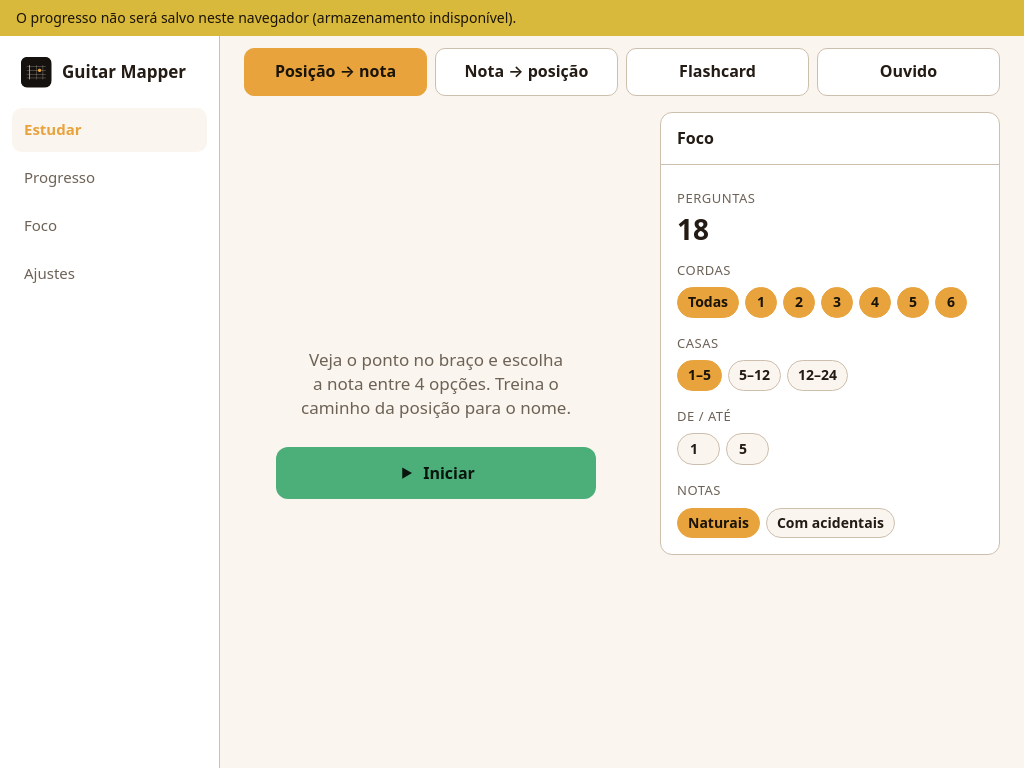
Test: App › warns when storage is unavailable and still works
Expected: the text "progresso não será salvo" is shown, left=16, top=8, right=516, bottom=27
Step 1. Click the button "Iniciar" → click(436, 474), box left=276, top=448, right=596, bottom=500
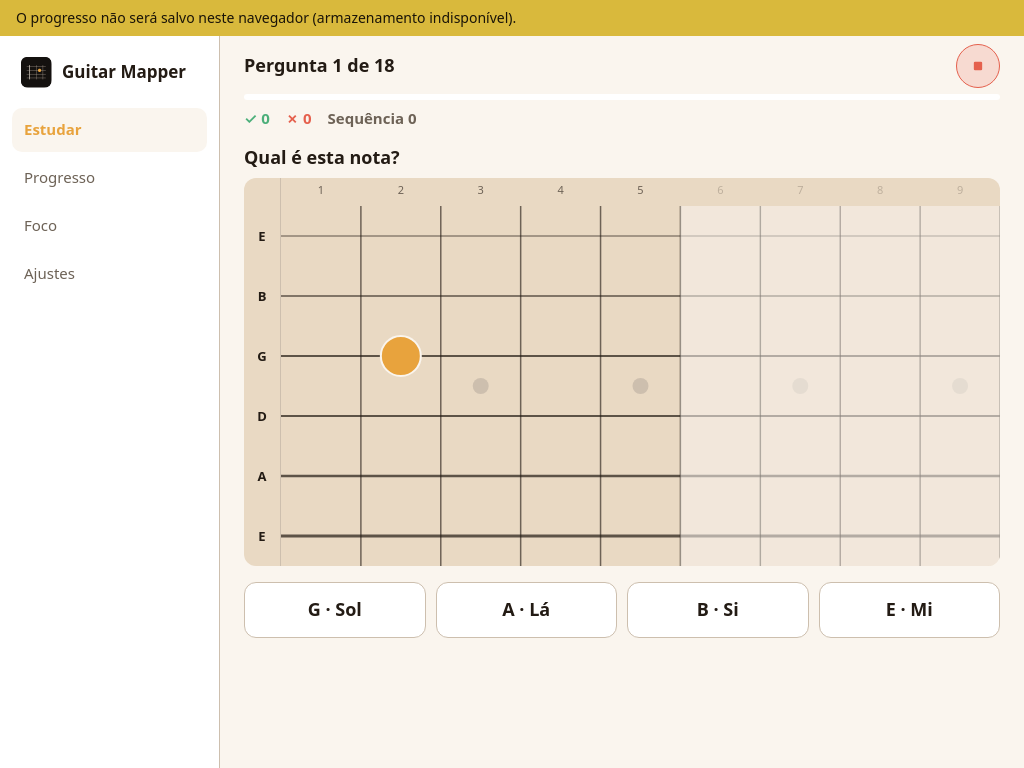
Result: the text "Qual é esta nota?" is shown at left=244, top=145, right=400, bottom=169
